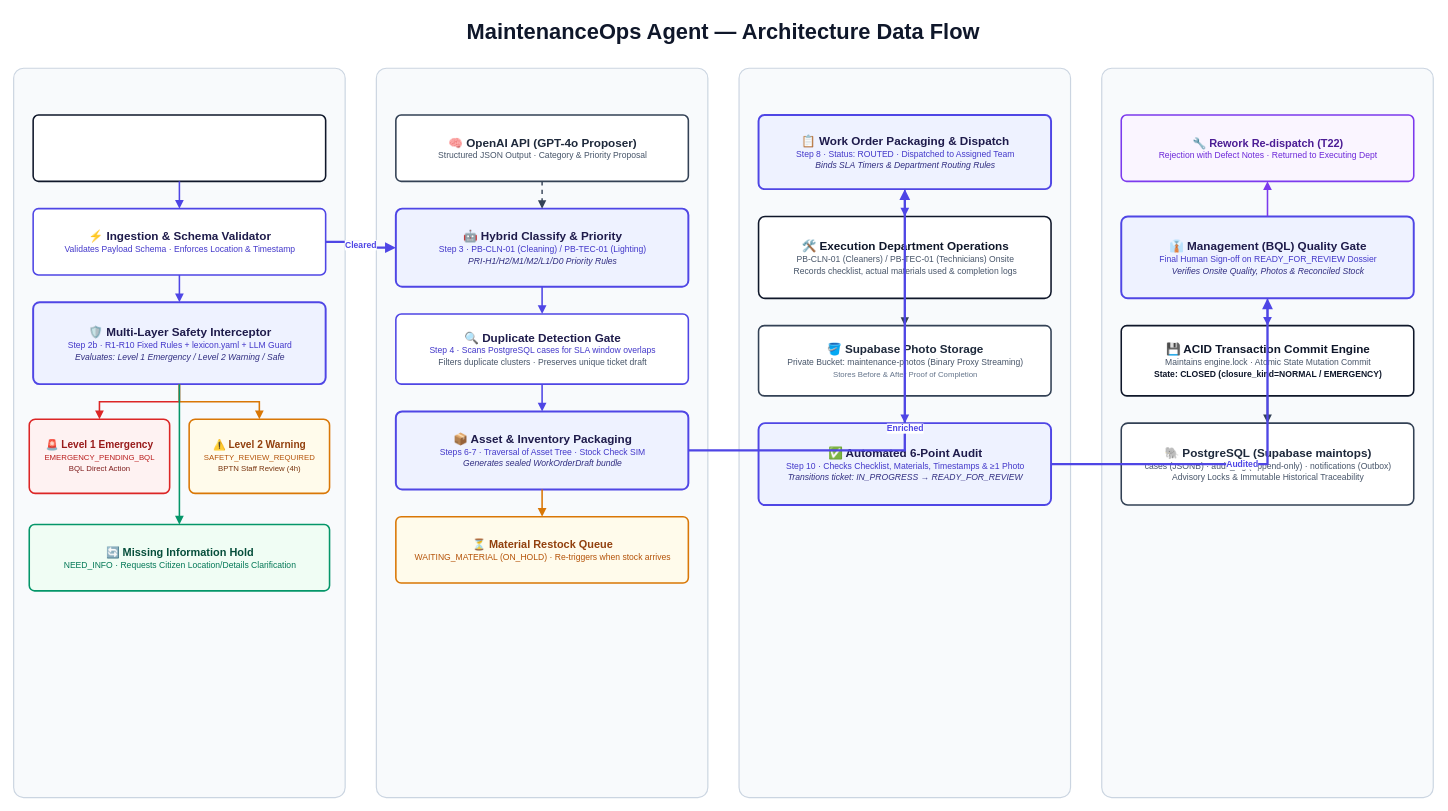
Some shapes in this 1448 by 811 pixel diagram are drawn without their labels. The box of each missing label's shape, as (x1, y1, x2, y2) in pixels:
1. INTAKE & SAFETY INTERCEPTION: (13, 67, 345, 798)
2. AI REASONING & ENRICHMENT: (375, 67, 708, 798)
3. FIELD DISPATCH & EXECUTION: (738, 67, 1071, 798)
4. QUALITY GATE & ACID PERSISTENCE: (1101, 67, 1433, 798)
👤 Resident Report Raw Description Text + Initial Field Photo Evidence: (32, 114, 326, 182)
